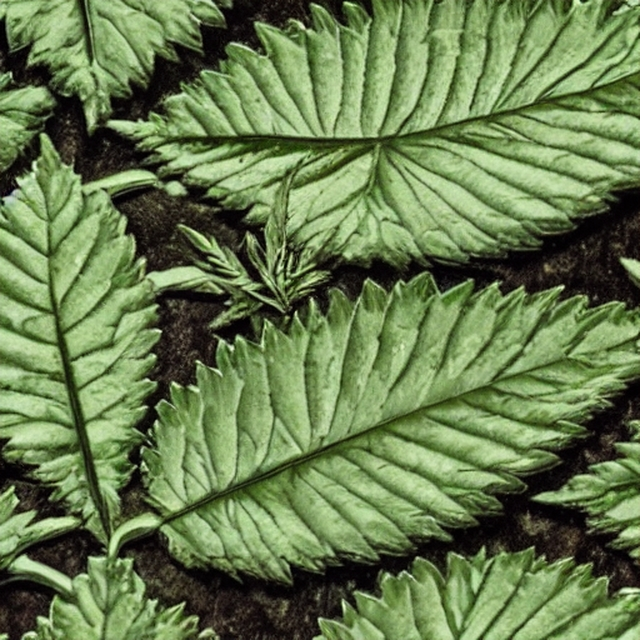Marijuana Leaf: (0, 0, 640, 639), (133, 269, 640, 585), (105, 0, 640, 271), (0, 131, 164, 544), (295, 543, 640, 640), (0, 0, 228, 134)
